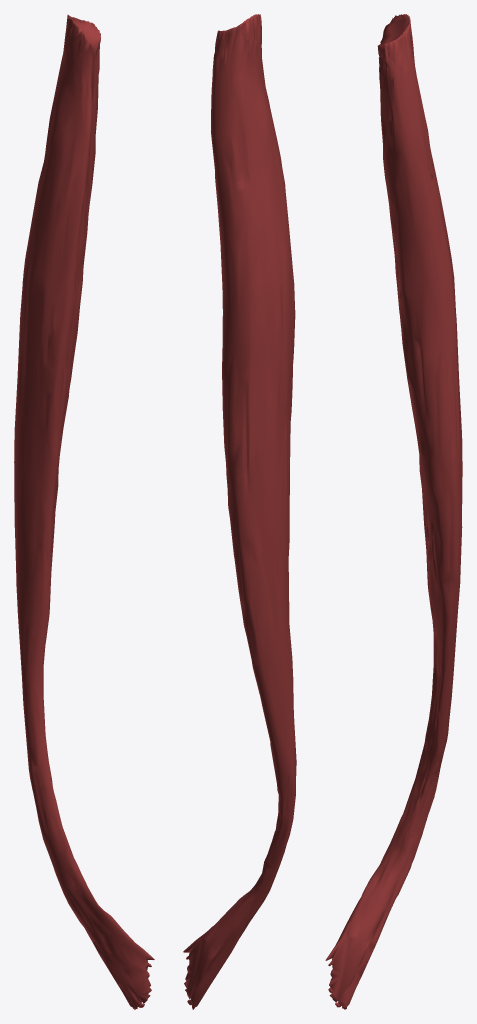
File: semitendinosus-muscle-l.glb
3 views of the same model, side by side, from view 1: azimuth 90°, elevation 25°; view 2: azimuth 210°, elevation 25°; view 3: azimuth 270°, elevation 25° (orthographic). The views are drawn at different scales.
Parts seen in each view (by area): view 1: Semitendinosus muscle.l; view 2: Semitendinosus muscle.l; view 3: Semitendinosus muscle.l.
Part boxes in pixels (box(x1,y1,x2,y2)): Semitendinosus muscle.l: box(14, 14, 154, 1009); Semitendinosus muscle.l: box(183, 14, 296, 1009); Semitendinosus muscle.l: box(325, 14, 462, 1009).
Bounding box in the file's own units: 0.036 × 0.4599 × 0.0582.
